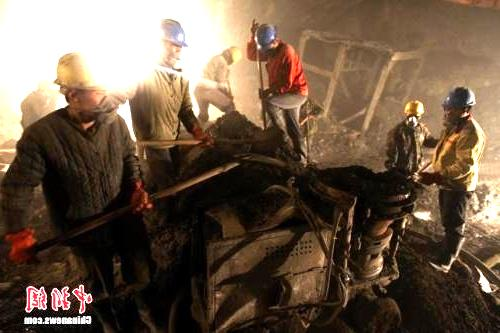helmet: (53, 50, 116, 112), (153, 17, 189, 61), (441, 85, 476, 124), (256, 23, 279, 52), (403, 100, 424, 127), (222, 45, 242, 67)
